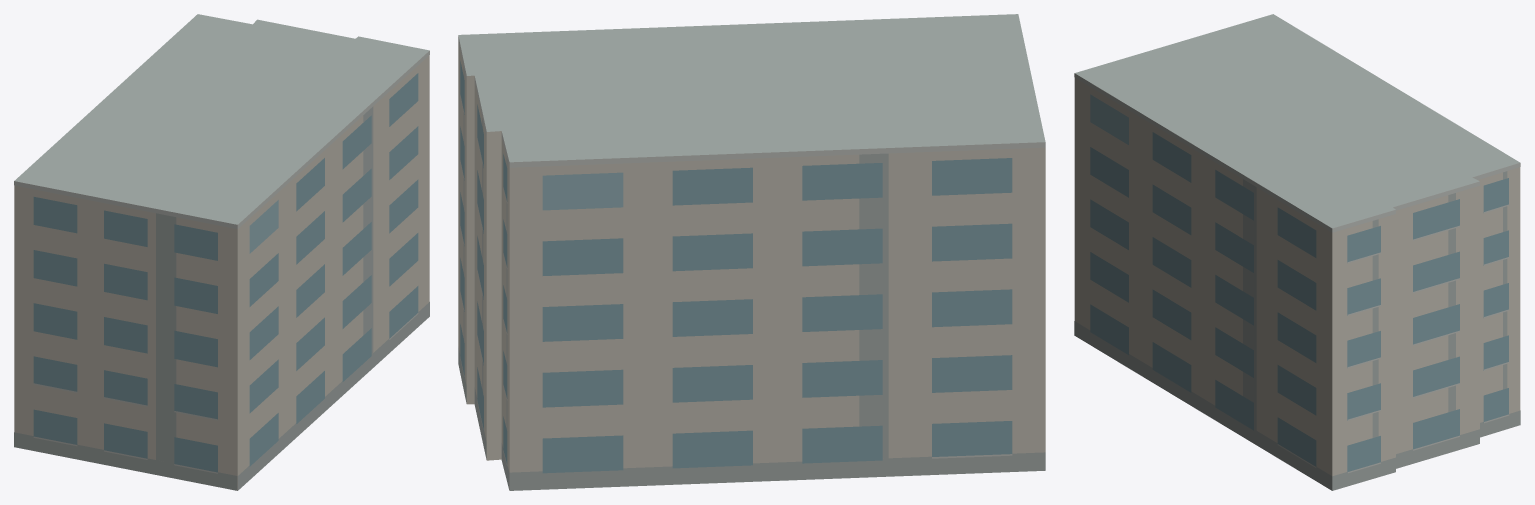
File: survey-upis-32483558.glb
The picture shows the model from 3 angles, left to right: view 1: azimuth 30°, elevation 25°; view 2: azimuth 150°, elevation 25°; view 3: azimuth 270°, elevation 25°; orthographic projection. The views are drawn at different scales.
Parts seen in each view (by area): view 1: survey-upis-32483558.tmp; view 2: survey-upis-32483558.tmp; view 3: survey-upis-32483558.tmp.
Part boxes in pixels (bbox=[...]): survey-upis-32483558.tmp: bbox=[14, 14, 429, 490]; survey-upis-32483558.tmp: bbox=[458, 14, 1045, 490]; survey-upis-32483558.tmp: bbox=[1074, 14, 1520, 490].
Size of the model in its own units: 25.77 by 14.7 by 22.64.
